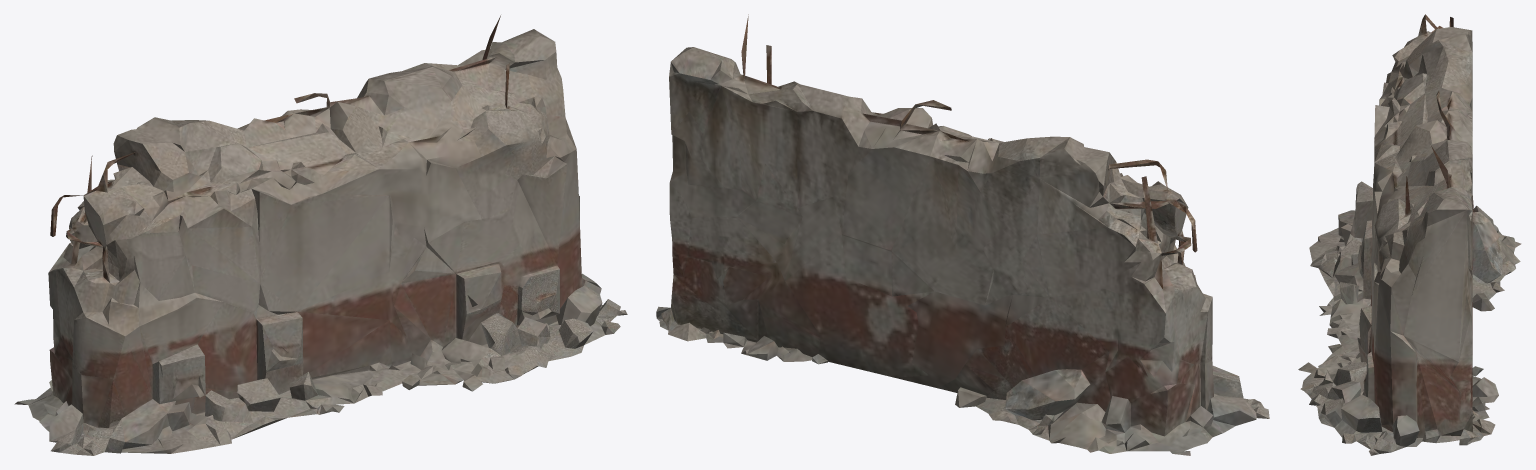
File: prop-wall.glb
The picture shows the model from 3 angles, left to right: view 1: azimuth 30°, elevation 25°; view 2: azimuth 150°, elevation 25°; view 3: azimuth 270°, elevation 25°; orthographic projection. The views are drawn at different scales.
Parts seen in each view (by area): view 1: output_unwrapped; view 2: output_unwrapped; view 3: output_unwrapped.
Part boxes in pixels (<box>): output_unwrapped: <box>14,15,627,455</box>; output_unwrapped: <box>656,14,1269,455</box>; output_unwrapped: <box>1298,14,1521,455</box>.
Size of the model in its own units: 1.9 by 0.9498 by 0.7121.
1 material, 1 textured.
